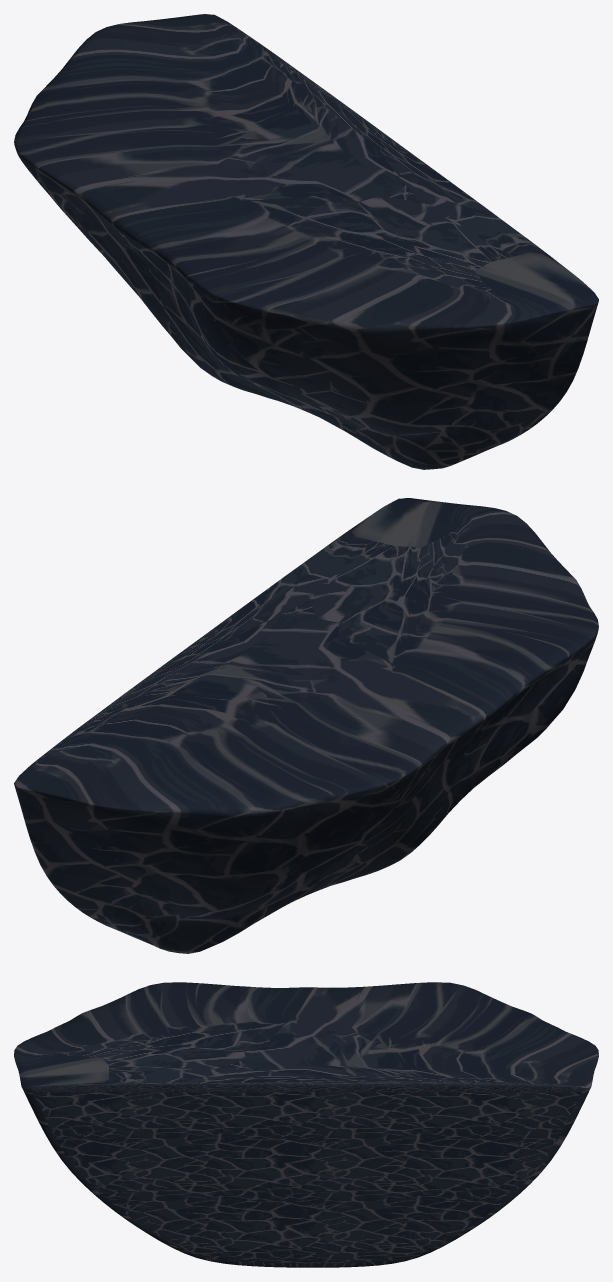
The model's file is BottomSide.fbx.
The picture shows the model from 3 angles, top to bottom: view 1: azimuth 30°, elevation 25°; view 2: azimuth 150°, elevation 25°; view 3: azimuth 270°, elevation 25°; orthographic projection. The views are drawn at different scales.
Parts seen in each view (by area): view 1: pCube10; view 2: pCube10; view 3: pCube10.
Boxes of the visible parts, x1,y1,x2,y2 form: pCube10: (14,14,598,469); pCube10: (14,498,598,953); pCube10: (14,982,598,1267).
Bounding box in the file's own units: 4.57 × 3.81 × 10.9.
1 material, 1 textured.
